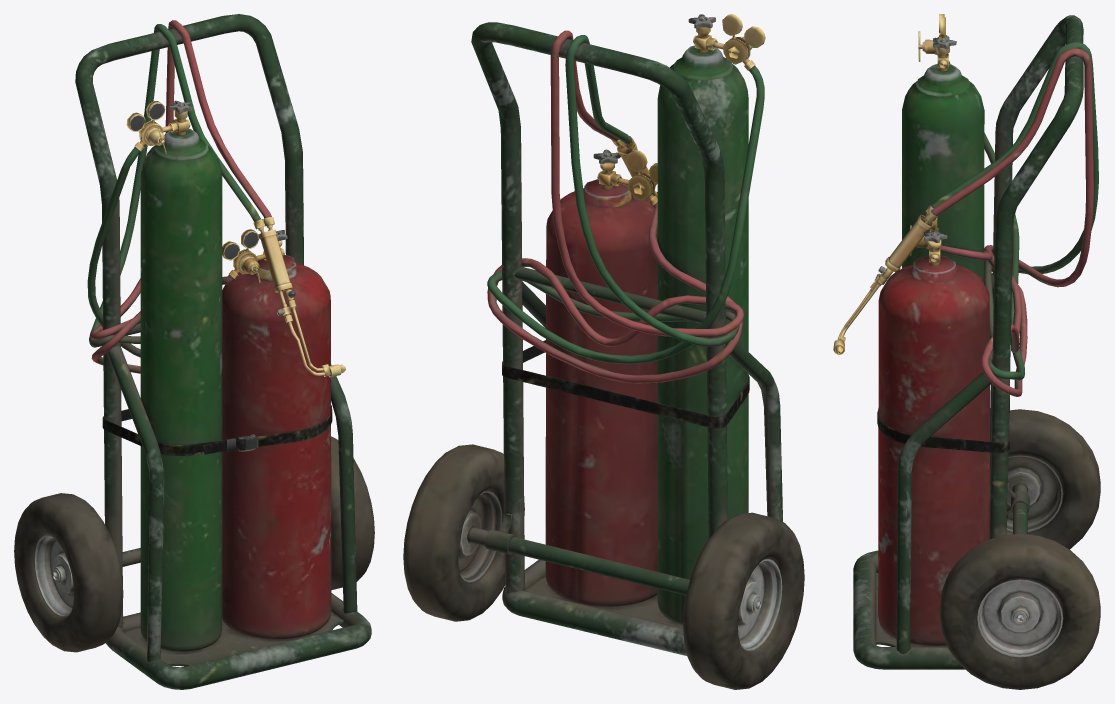
Rendered from portable_welding_cart.glb.
The picture shows the model from 3 angles, left to right: view 1: azimuth 30°, elevation 25°; view 2: azimuth 150°, elevation 25°; view 3: azimuth 270°, elevation 25°; orthographic projection. The views are drawn at different scales.
Visible parts, largest first — view 1: portable_welding_cart; view 2: portable_welding_cart; view 3: portable_welding_cart.
Part boxes in pixels (box(x1,y1,x2,y2)): portable_welding_cart: box(14, 14, 374, 689); portable_welding_cart: box(403, 14, 804, 689); portable_welding_cart: box(833, 14, 1100, 689).
Size of the model in its own units: 0.8365 by 1.56 by 0.655.
2 materials, 2 textured.
